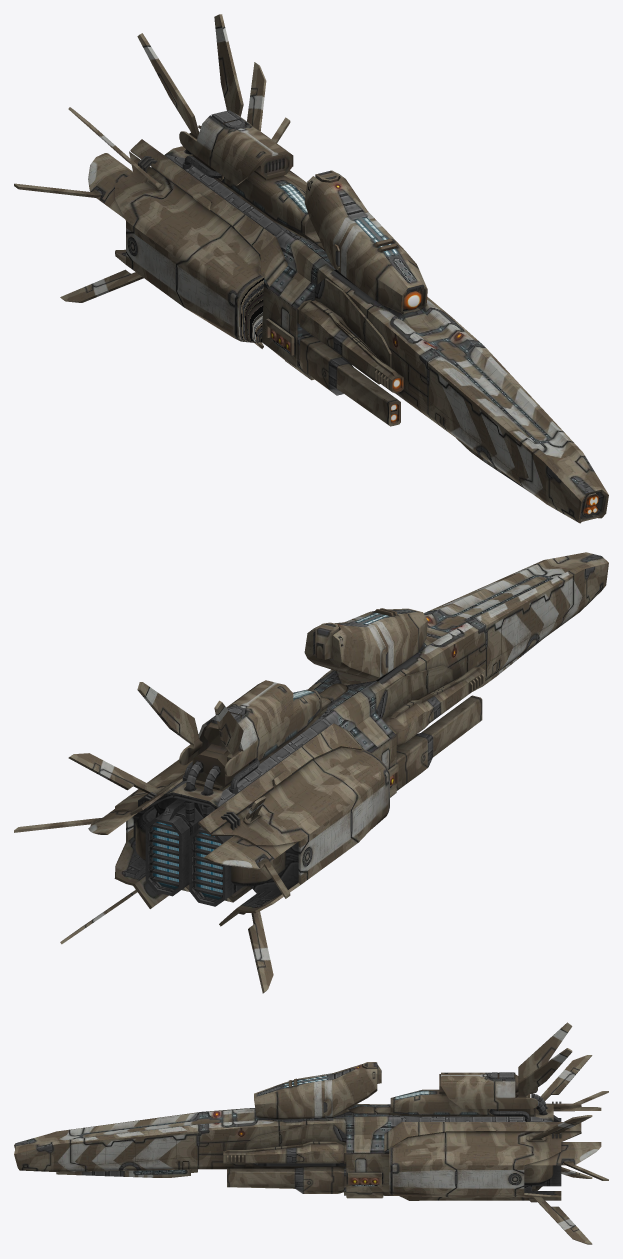
The model's file is fragata_pesada_event_star.glb.
The picture shows the model from 3 angles, top to bottom: view 1: azimuth 30°, elevation 25°; view 2: azimuth 150°, elevation 25°; view 3: azimuth 270°, elevation 25°; orthographic projection. The views are drawn at different scales.
Parts seen in each view (by area): view 1: Object_2; view 2: Object_2; view 3: Object_2.
Boxes of the visible parts, <box> form: Object_2: <box>14,14,608,523</box>; Object_2: <box>14,552,608,993</box>; Object_2: <box>14,1022,608,1244</box>.
Bounding box in the file's own units: 199 × 185 × 564.
1 material, 1 textured.
